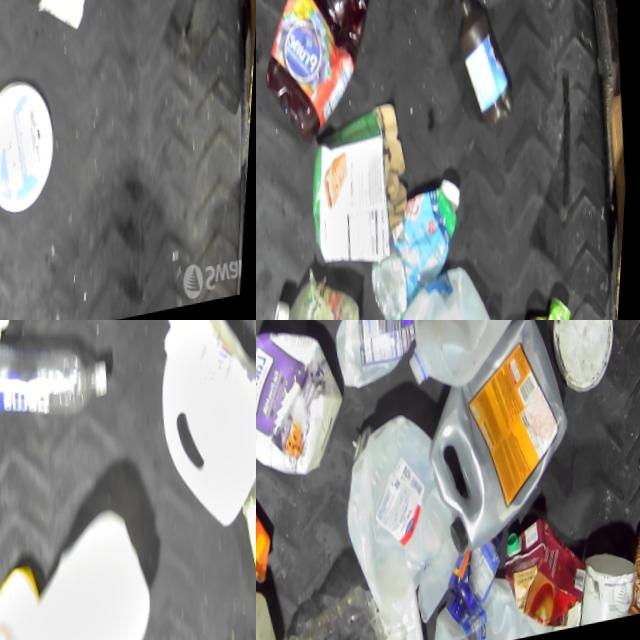can: (28, 0, 99, 53), (624, 553, 640, 630), (524, 302, 580, 320)
milk_jug: (340, 420, 468, 640), (141, 320, 256, 546), (0, 516, 167, 640), (393, 320, 541, 408), (328, 320, 430, 401), (400, 273, 518, 320)
non_white_jug: (425, 320, 587, 578), (504, 514, 597, 640), (256, 335, 338, 464)
plastic_bottle: (0, 320, 113, 434)
